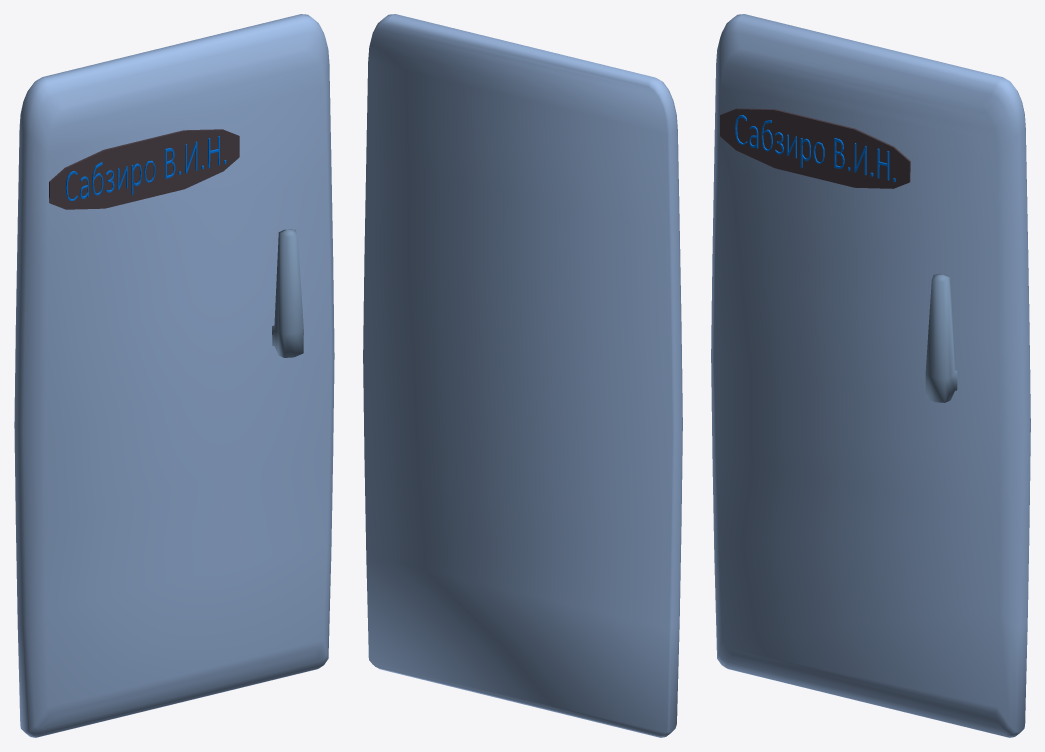
File: Fridge_door.fbx
The picture shows the model from 3 angles, left to right: view 1: azimuth 30°, elevation 25°; view 2: azimuth 150°, elevation 25°; view 3: azimuth 330°, elevation 25°; orthographic projection.
Visible parts, largest first — view 1: дверь_холодильник; view 2: дверь_холодильник; view 3: дверь_холодильник.
Boxes of the visible parts, x1,y1,x2,y2 form: дверь_холодильник: (14, 14, 334, 737); дверь_холодильник: (363, 14, 682, 737); дверь_холодильник: (711, 14, 1030, 737).
Bounding box in the file's own units: 115 × 229 × 21.02.
